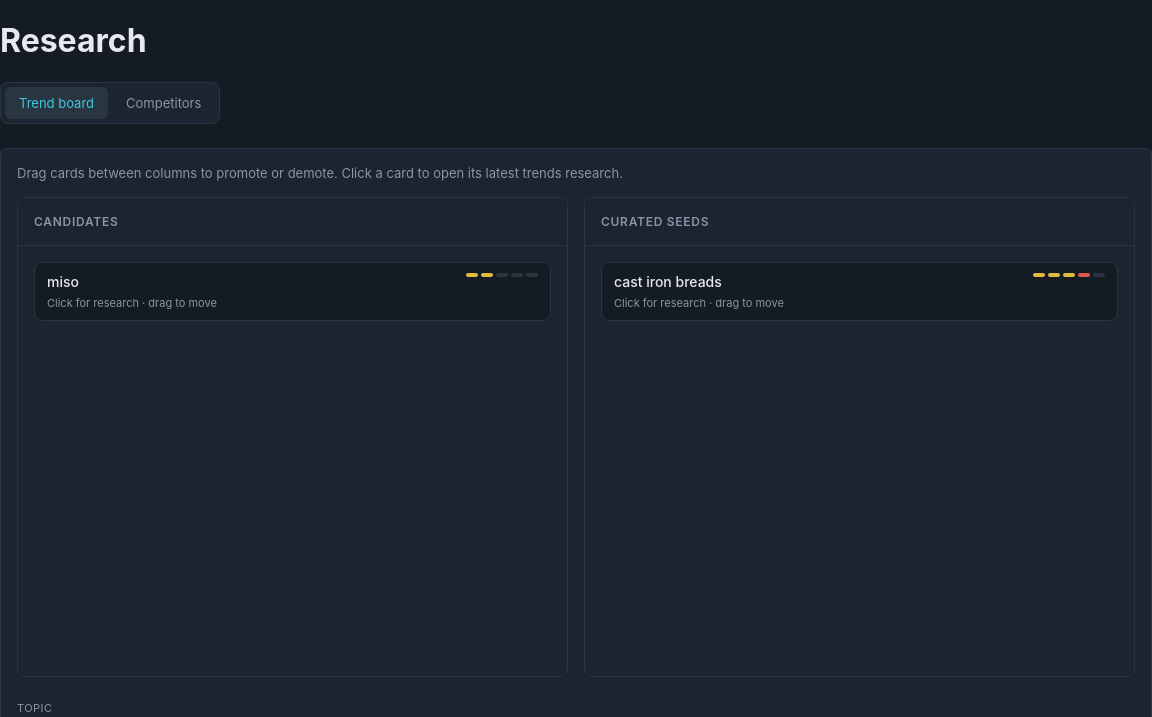
Test: Research › hides the Research button for candidate topics
Click the button "miso Click for research · drag to move" at (63, 281), box x1=34 y1=262 x2=551 y2=321
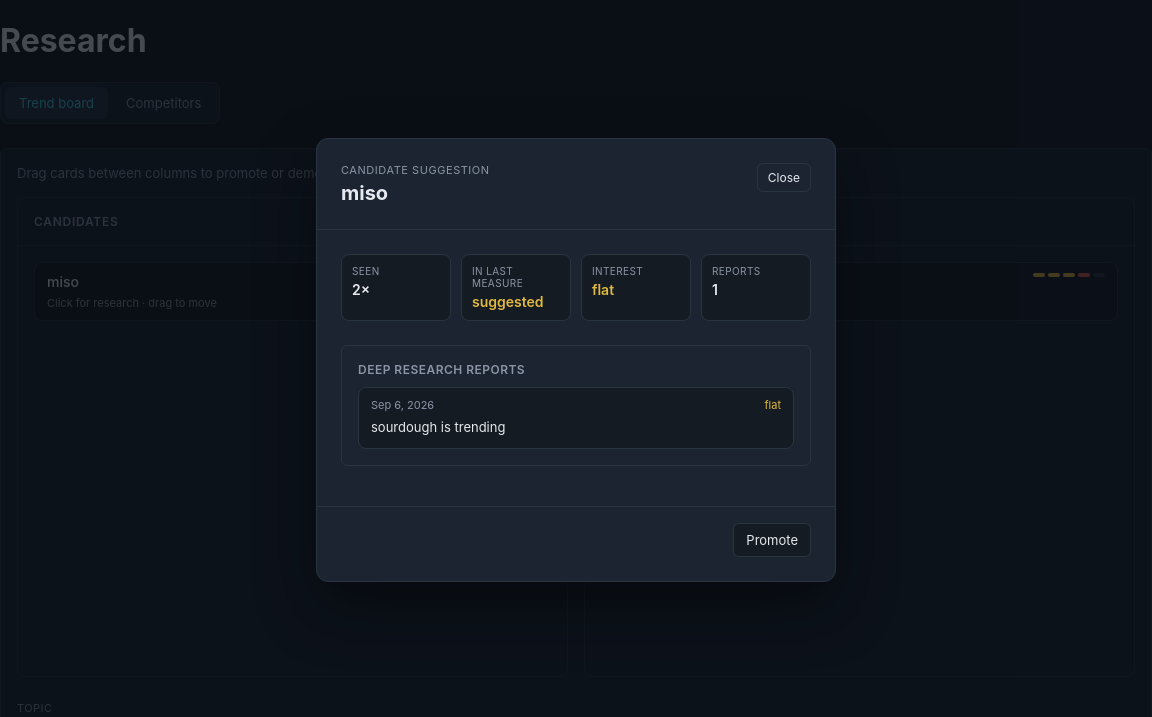
expect the button "Promote" is shown: met, box x1=733 y1=523 x2=811 y2=557
